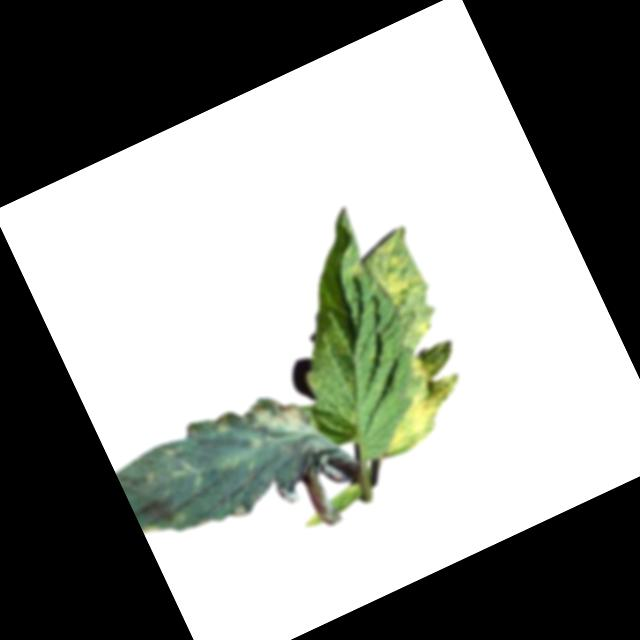Leaf_Mold: (352, 336, 484, 459), (357, 225, 452, 355), (238, 380, 317, 455), (205, 409, 235, 439)
